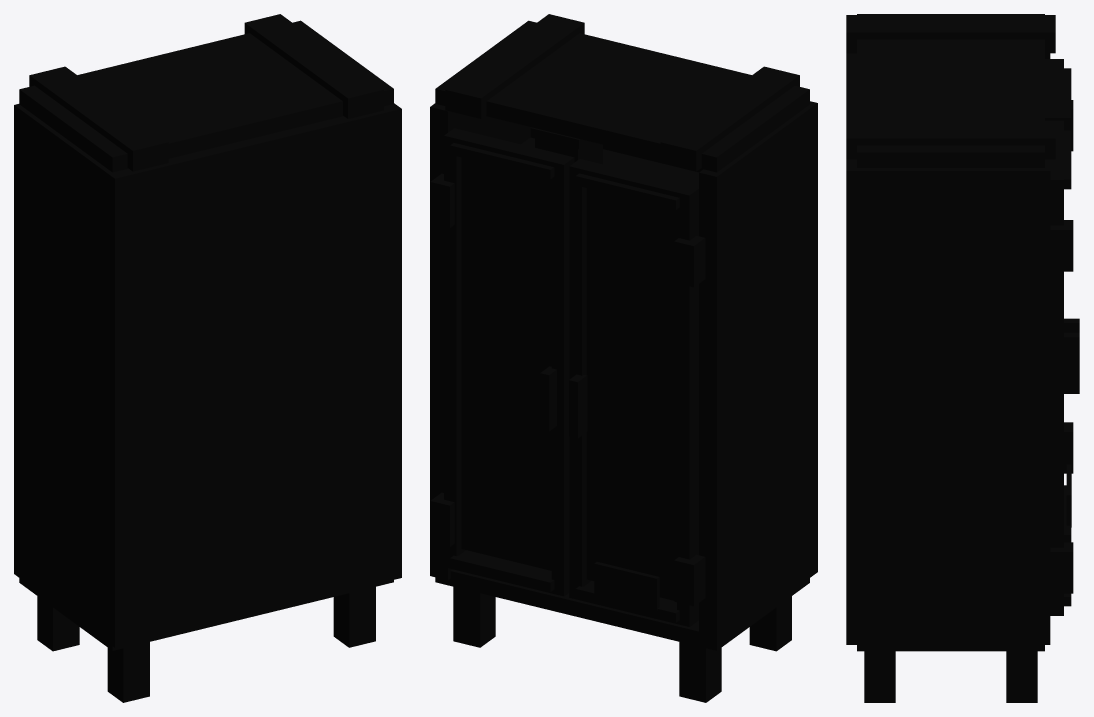
The model's file is lab_cabinet.obj.
3 views of the same model, side by side, from view 1: azimuth 30°, elevation 25°; view 2: azimuth 150°, elevation 25°; view 3: azimuth 270°, elevation 25° (orthographic).
Size of the model in its own units: 0.4706 by 0.875 by 0.3279.
